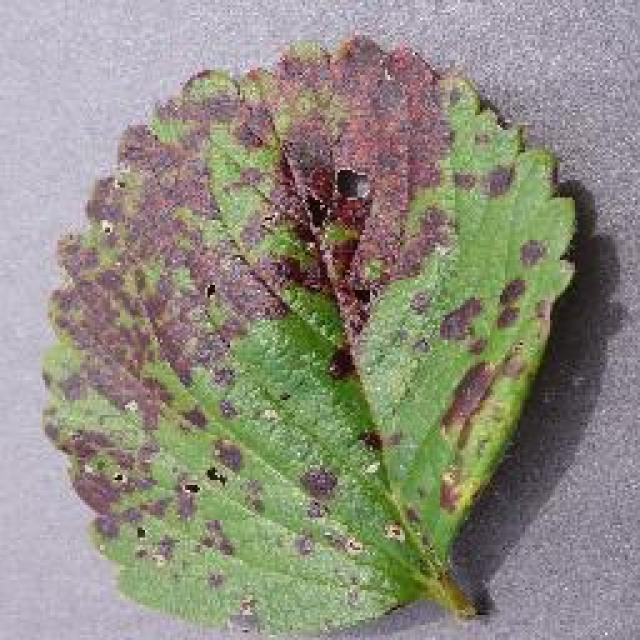Strawberry___Leaf_scorch: (15, 12, 593, 640)
